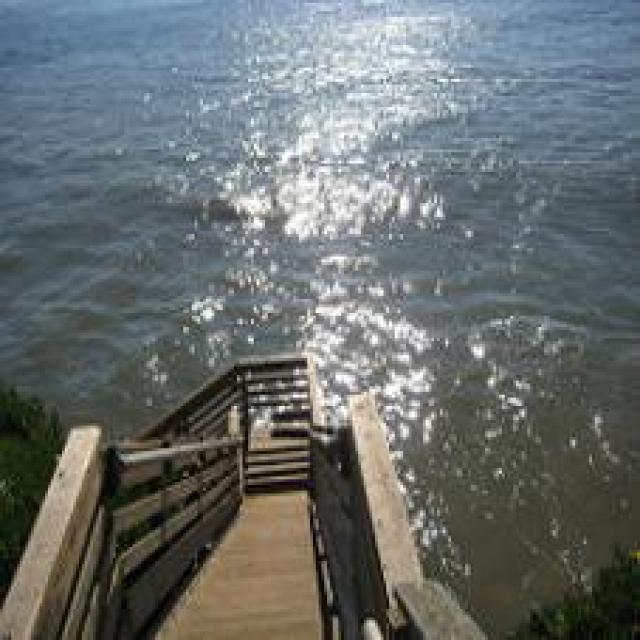downstair: (154, 529, 340, 636)
